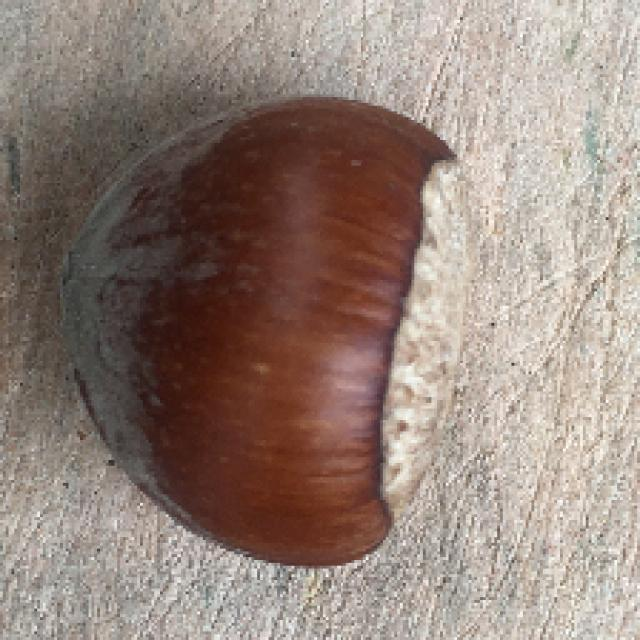qualityHazelnut: (37, 88, 484, 573)
